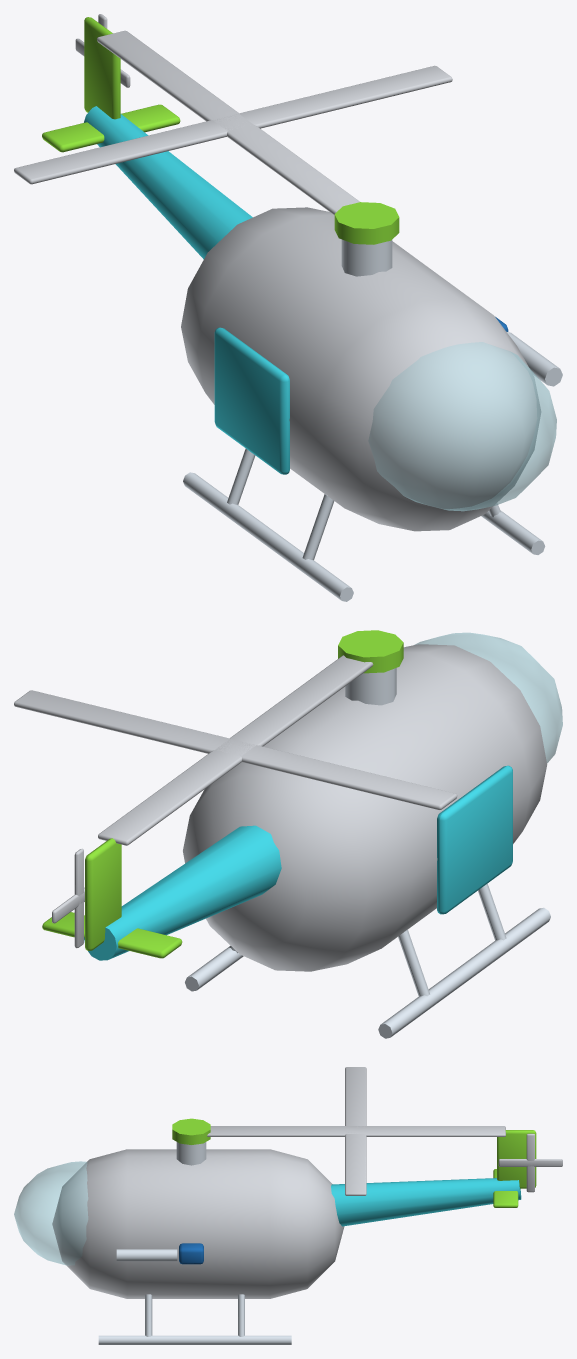
Rendered from Heli.fbx.
3 renders of one model, top to bottom at view 1: azimuth 30°, elevation 25°; view 2: azimuth 150°, elevation 25°; view 3: azimuth 270°, elevation 25°, orthographic. The views are drawn at different scales.
Visible parts, largest first — view 1: Body, Rotor; view 2: Body, Rotor, TailRotor; view 3: Body, Rotor, TailRotor.
Boxes of the visible parts, bbox=[...] form: Body: bbox=[42, 17, 562, 601]; Rotor: bbox=[14, 30, 452, 244]; Body: bbox=[42, 632, 562, 1038]; Rotor: bbox=[14, 630, 457, 845]; TailRotor: bbox=[52, 848, 84, 948]; Body: bbox=[14, 1130, 536, 1344]; Rotor: bbox=[172, 1067, 505, 1195]; TailRotor: bbox=[498, 1133, 562, 1192].
Size of the model in its own units: 4.2 by 2.92 by 7.68.
